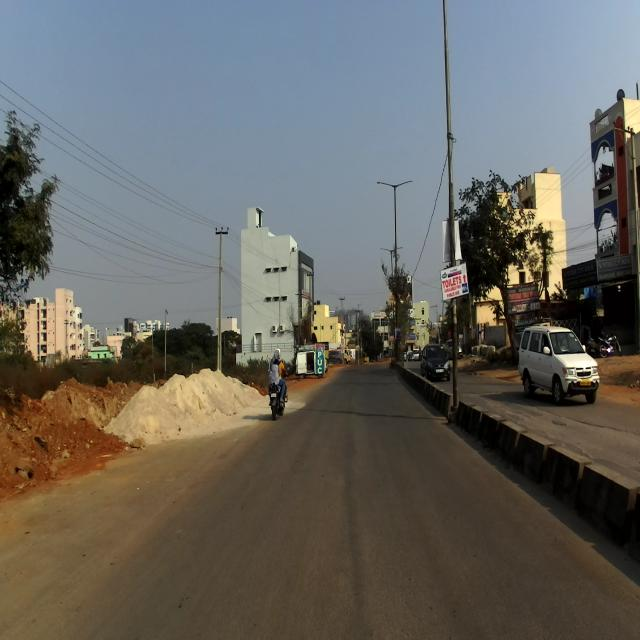car ahead at: (516, 317, 600, 403)
